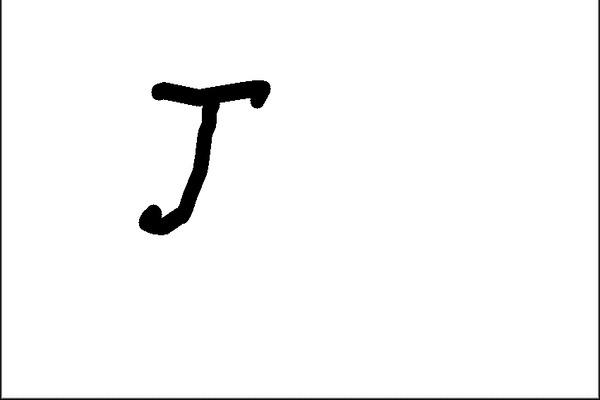J: (125, 75, 276, 237)
